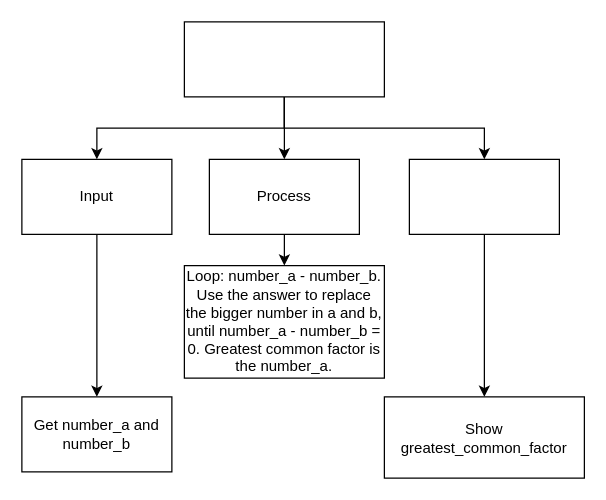
Image size: 606x500. Some labels were removed from this diagram. Here are the shapes that lost their labels. From the top down, the centre of each, then its label:
At (x=283, y=59): "Greatest Common Factor".
At (x=483, y=196): "Output".
